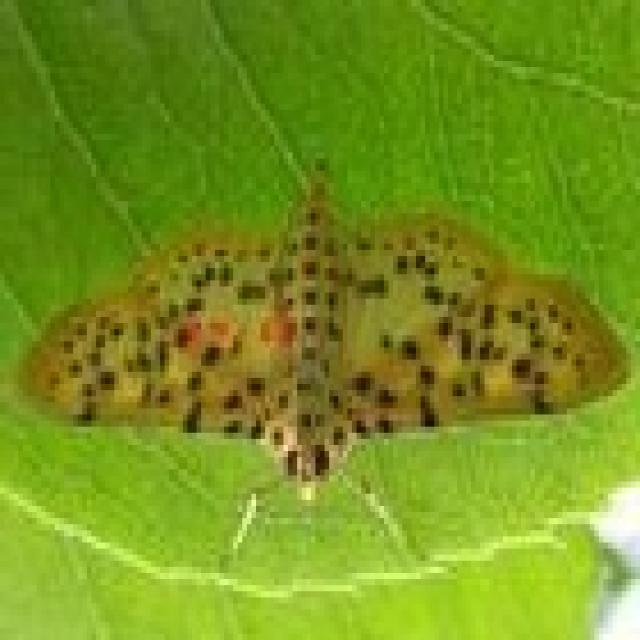peach borer: (15, 150, 627, 522)
